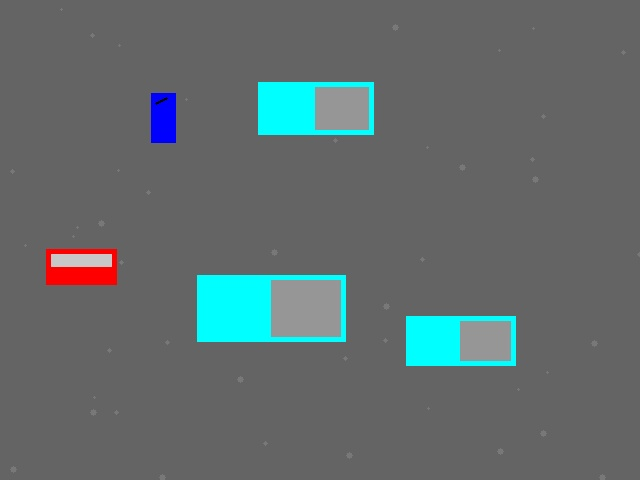car: (46, 249, 116, 284)
motorcycle: (151, 93, 175, 142)
truck: (197, 275, 345, 341), (258, 82, 373, 134), (406, 316, 515, 365)
